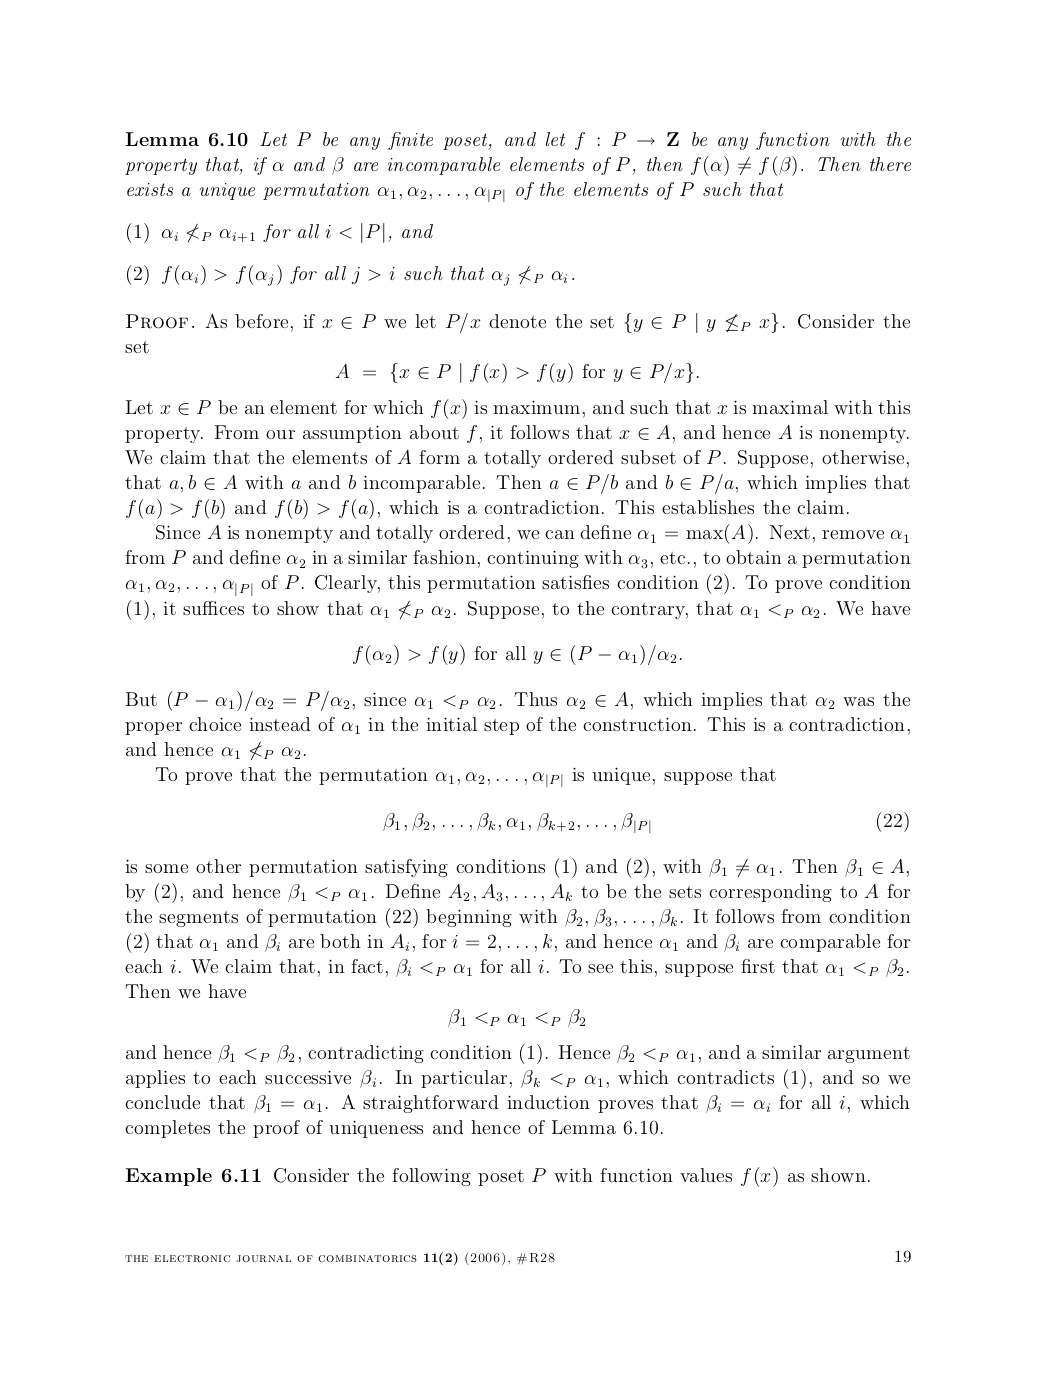formula: (383, 811, 908, 834), (335, 362, 698, 383), (353, 644, 681, 665), (448, 1007, 585, 1028)
